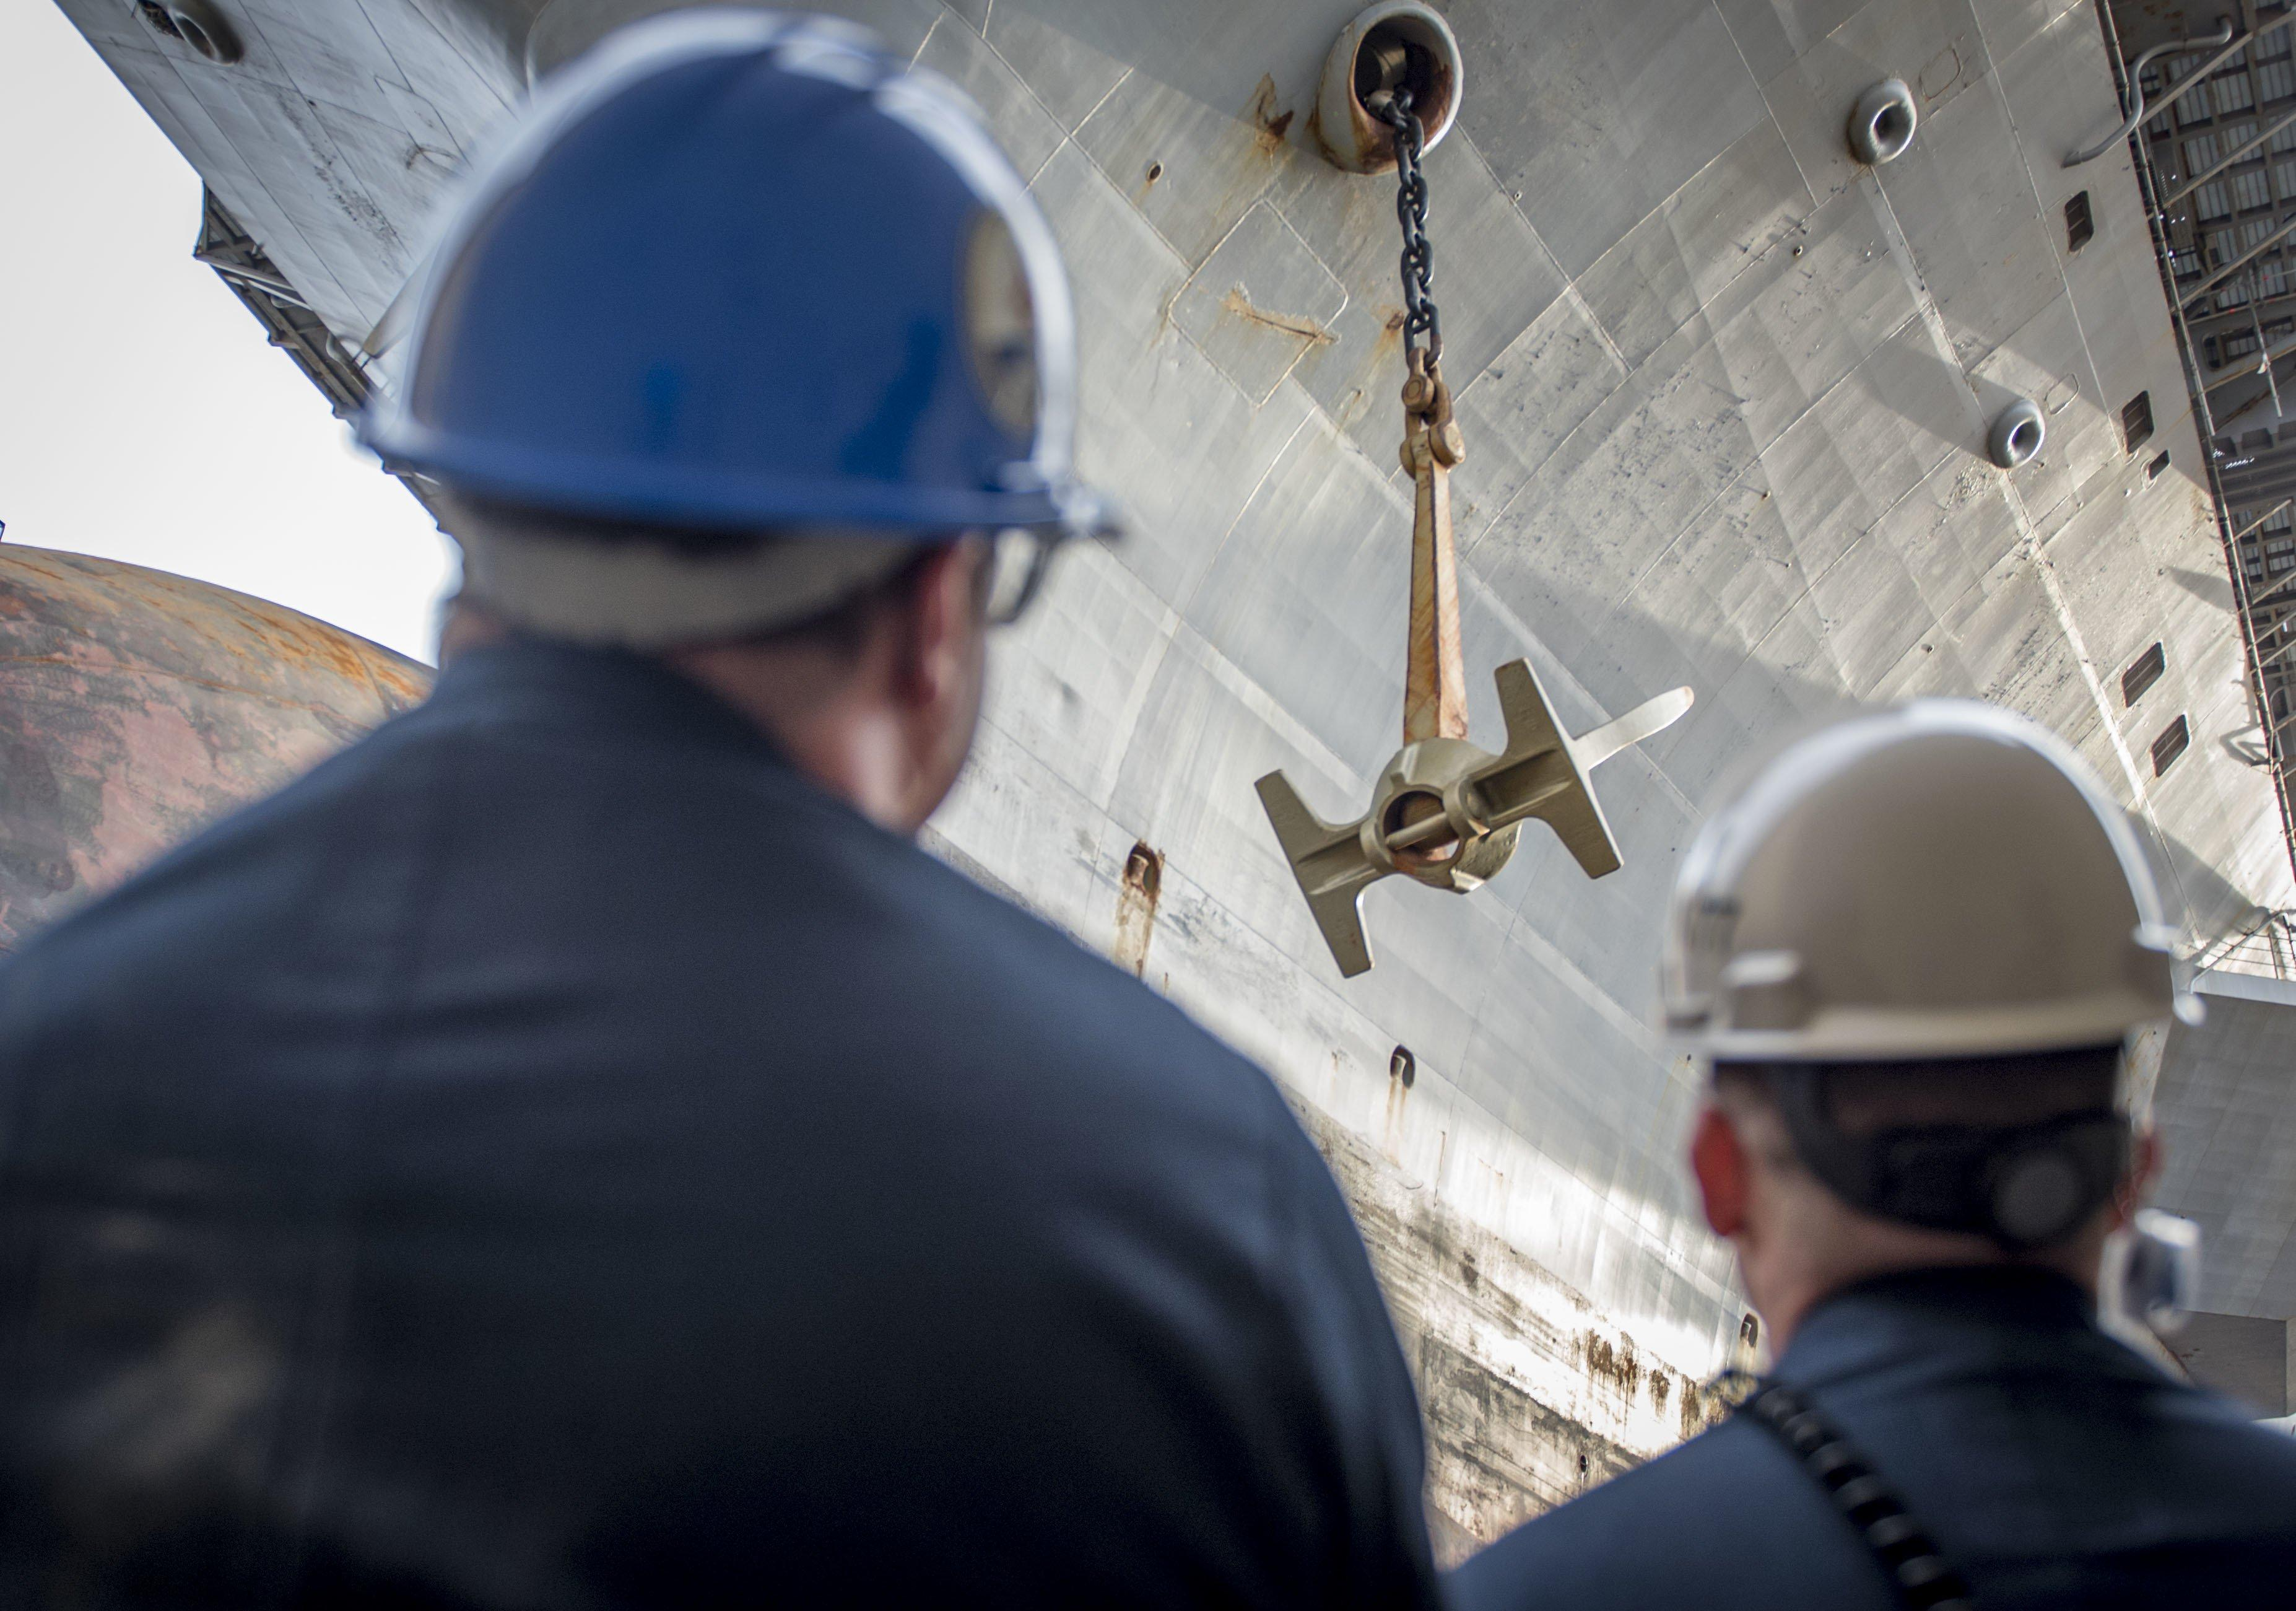helmet: (358, 16, 1087, 534), (1657, 703, 2212, 1068)
